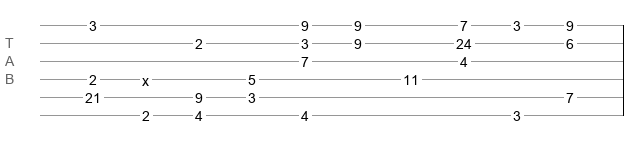11: (403, 72, 419, 82)
2: (89, 72, 97, 82), (142, 108, 150, 118), (195, 36, 203, 46)
21: (85, 90, 101, 100)
24: (456, 36, 472, 46)
3: (89, 18, 97, 28), (248, 90, 256, 100), (301, 36, 309, 46), (513, 18, 521, 28), (513, 108, 521, 118)
4: (195, 108, 203, 118), (301, 108, 309, 118), (460, 54, 468, 64)
5: (248, 72, 256, 82)
6: (566, 36, 574, 46)
7: (301, 54, 309, 64), (460, 18, 468, 28), (566, 90, 574, 100)
9: (195, 90, 203, 100), (301, 18, 309, 28), (354, 18, 362, 28), (354, 36, 362, 46), (566, 18, 574, 28)
x: (142, 73, 149, 81)
